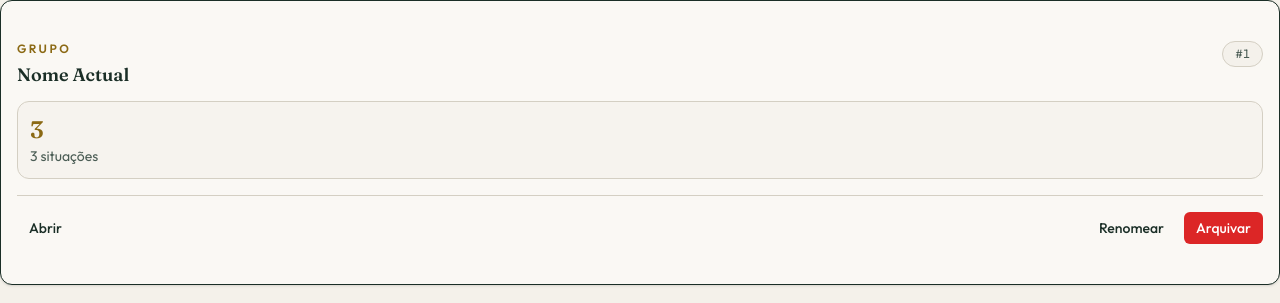
Test case: GroupCard › shows rename input pre-filled with the current group name when Renomear is clicked
Click the button with test id "group-rename-btn": (1132, 228) left=1087, top=212, right=1176, bottom=244
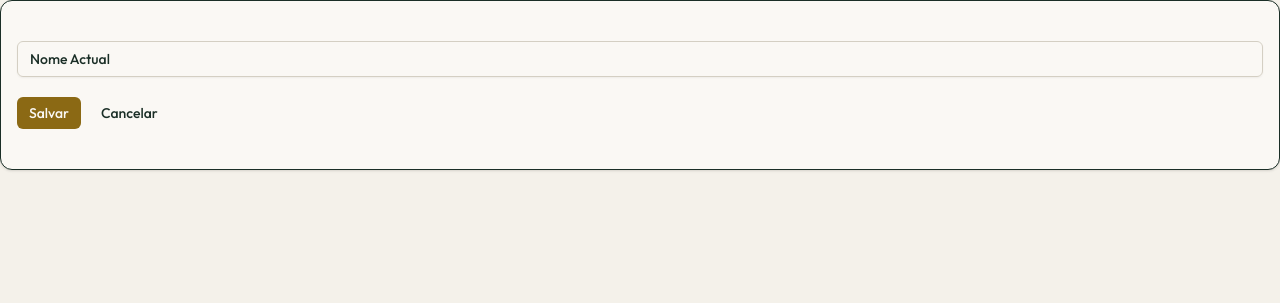
Result: the field with test id "group-rename-input" holds "Nome Actual" at left=17, top=41, right=1263, bottom=77
